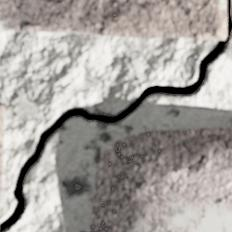brick: (90, 127, 231, 231), (0, 0, 226, 40), (0, 104, 5, 203)
crack: (0, 0, 231, 231)
